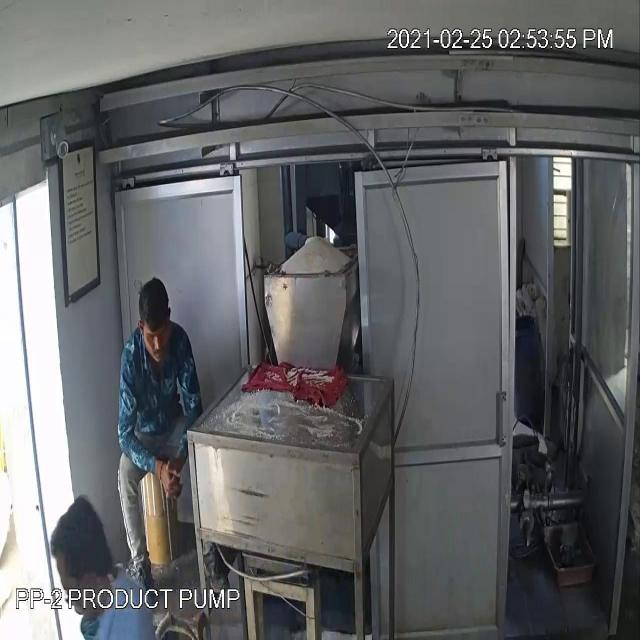no-helmet: (135, 277, 179, 345)
